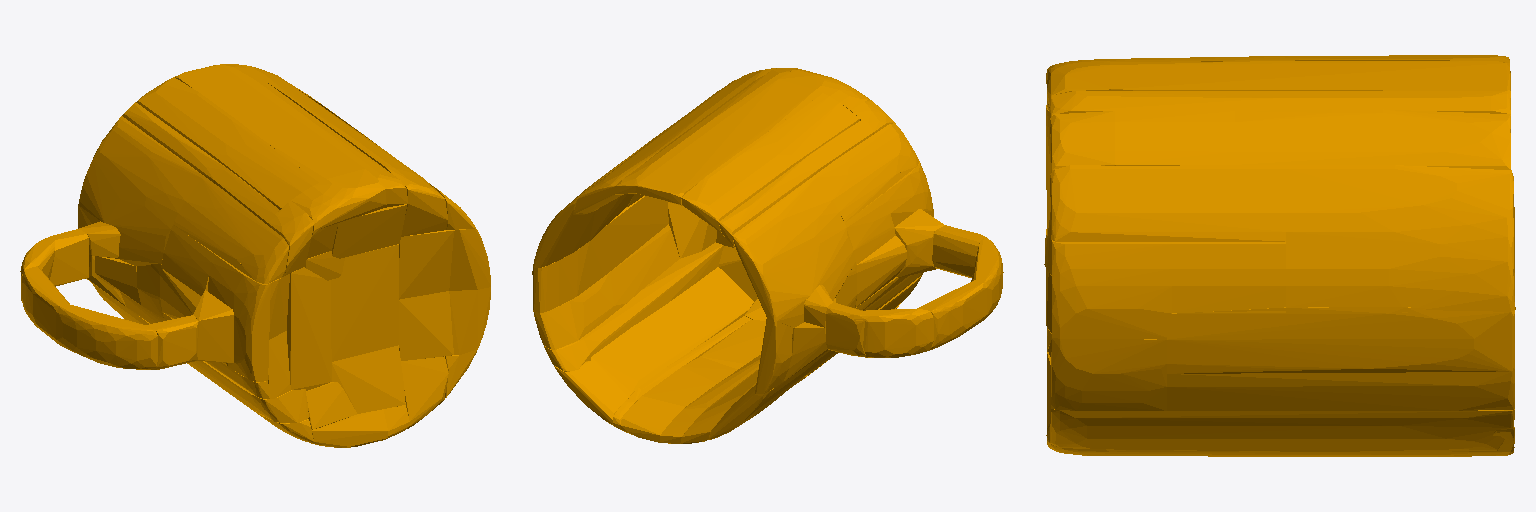
URDF robot description (cup-stanford):
<?xml version="1.0" ?>
<robot name="cup-stanford">
  <link name="baseLink">
    <contact>
      <lateral_friction value="1.0"/>
      <inertia_scaling value="3.0"/>
    </contact>
    <inertial>
      <origin rpy="0 0 0" xyz="0.000 0.000 0.000"/>
       <mass value=".1"/>
       <inertia ixx="1" ixy="0.0" ixz="0.0" iyy="1" iyz="0.0" izz="1"/>
    </inertial>
    <visual>
      <origin rpy="0 0 0" xyz="0 0 0"/>
      <geometry>
        <mesh filename="cup/cup-stanford.obj" scale="1.0 1.0 1.0"/>
      </geometry>
    </visual>
    <collision>
      <origin rpy="0 0 0" xyz="0 0 0"/>
      <geometry>
        <mesh filename="../collision/cup/cup-stanford.obj" scale="1.0 1.0 1.0"/>
      </geometry>
    </collision>
  </link>
</robot>
        

--- Facts derived from the render (not from the file) ---
Views: 3 orthographic renders of the robot side by side, from view 1: azimuth 30°, elevation 25°; view 2: azimuth 150°, elevation 25°; view 3: azimuth 270°, elevation 25°.
Robot: cup-stanford — 1 links, 0 joints (none); root link baseLink; default pose: all joints at 0.
Visible links, largest first — view 1: baseLink; view 2: baseLink; view 3: baseLink.
Link boxes in pixels (<box>): baseLink: <box>20,64,490,447</box>; baseLink: <box>532,68,1003,443</box>; baseLink: <box>1044,55,1515,456</box>.
Bounding box of the posed robot: 0.1191 × 0.0953 × 0.0802 m (x, y, z).
1 mesh visuals loaded from 1 distinct referenced files (1 OBJ).